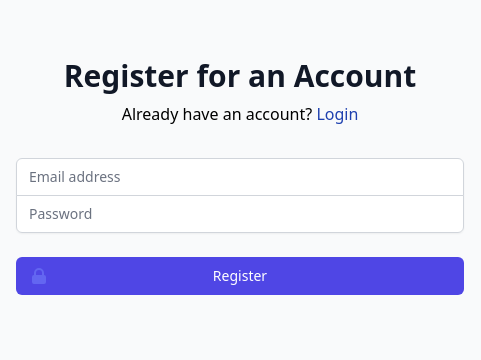
Test case: RegisterPage › renders error after unsuccessful register
In the field labelled "Email address": (240, 176) [16,158,464,196], type "nearbycoder@gmail.com"
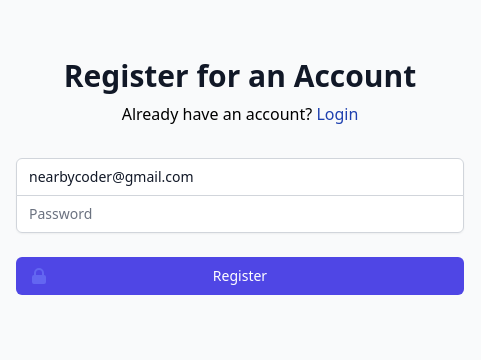
In the password field labelled "Password": (240, 214) [16,194,464,232], type "blah"
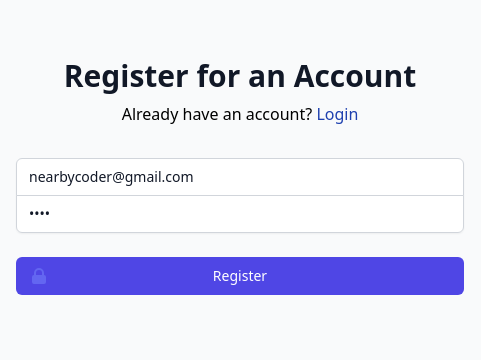
Click the button "Register": (240, 276) [16,256,464,294]
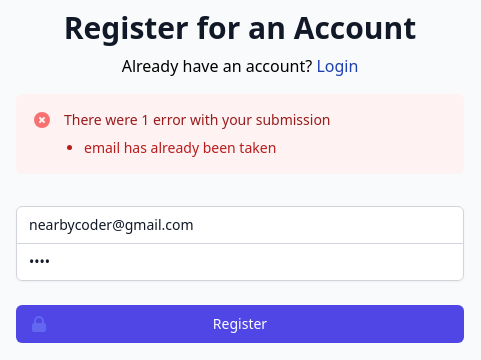
Result: the list item "email has already been taken" is shown at [84,138,276,156]
